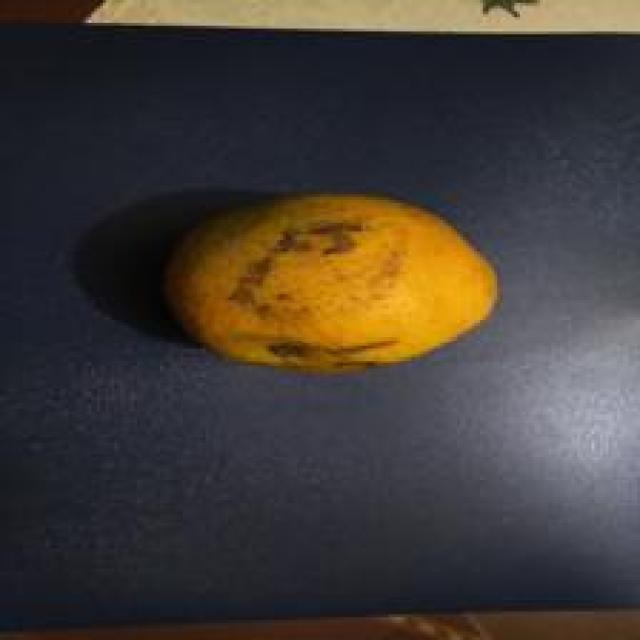overripe: (154, 186, 507, 373)
